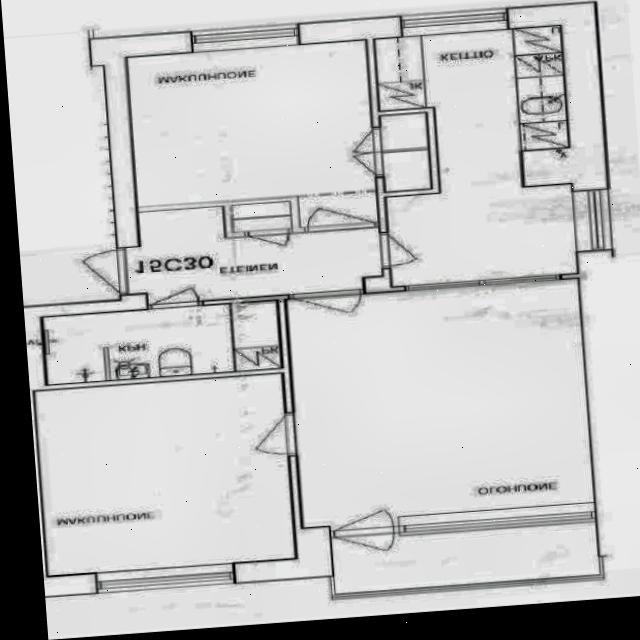room: (286, 278, 594, 534), (373, 26, 577, 287), (34, 374, 294, 576), (126, 41, 376, 239), (42, 300, 280, 384), (379, 113, 431, 193), (230, 202, 291, 233)
